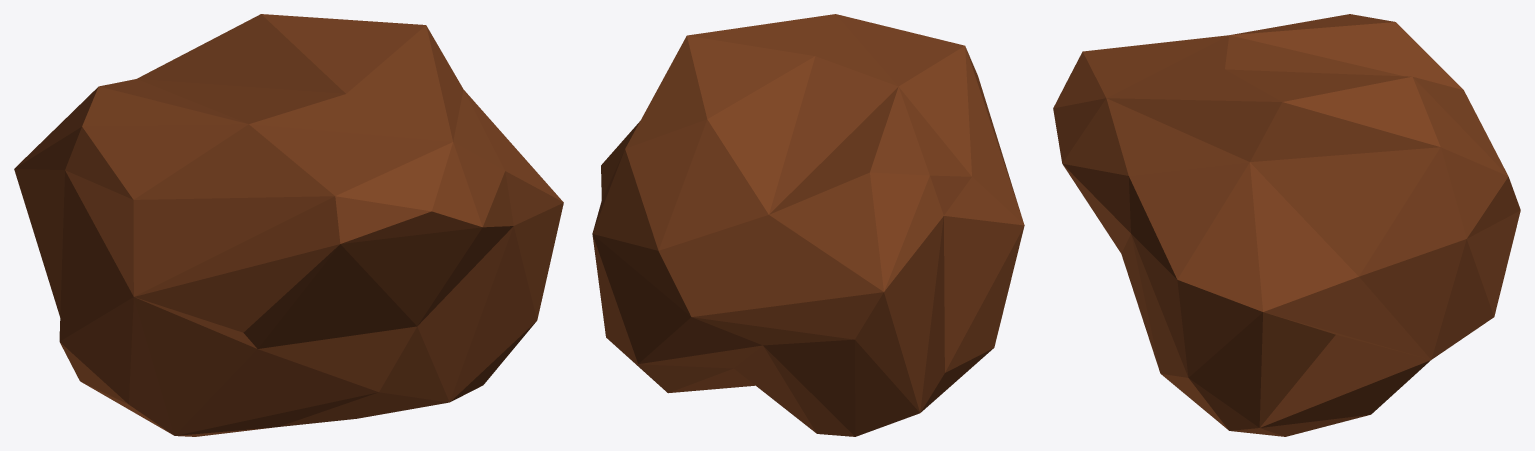
Rendered from Asteroide6.fbx.
3 views of the same model, side by side, from view 1: azimuth 30°, elevation 25°; view 2: azimuth 150°, elevation 25°; view 3: azimuth 270°, elevation 25° (orthographic). The views are drawn at different scales.
Parts seen in each view (by area): view 1: Asteroide6; view 2: Asteroide6; view 3: Asteroide6.
Part boxes in pixels (left/top/right/bottom): Asteroide6: left=14, top=14, right=563, bottom=436; Asteroide6: left=592, top=14, right=1024, bottom=436; Asteroide6: left=1053, top=14, right=1520, bottom=436.
Bounding box in the file's own units: 0.9795 × 0.8021 × 0.9864.
